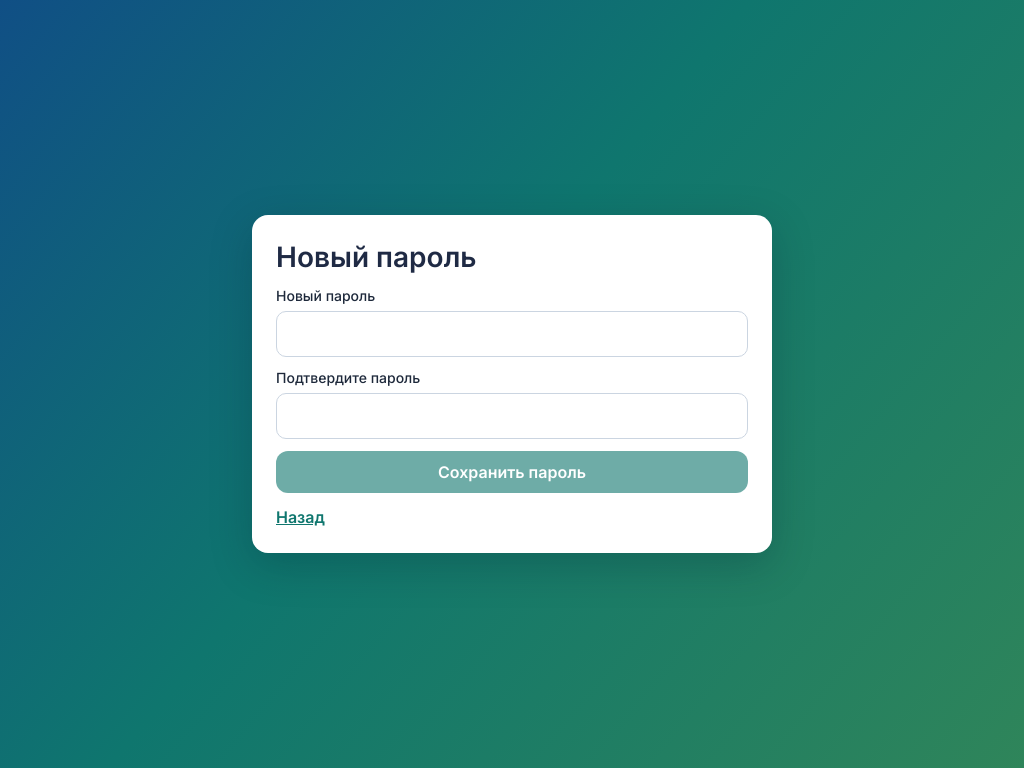
Test case: ResetPasswordPage › supports reset confirm flow by token
Type "Newpass123" into the password field labelled "Новый пароль" at (512, 334), box [276,311,748,357]
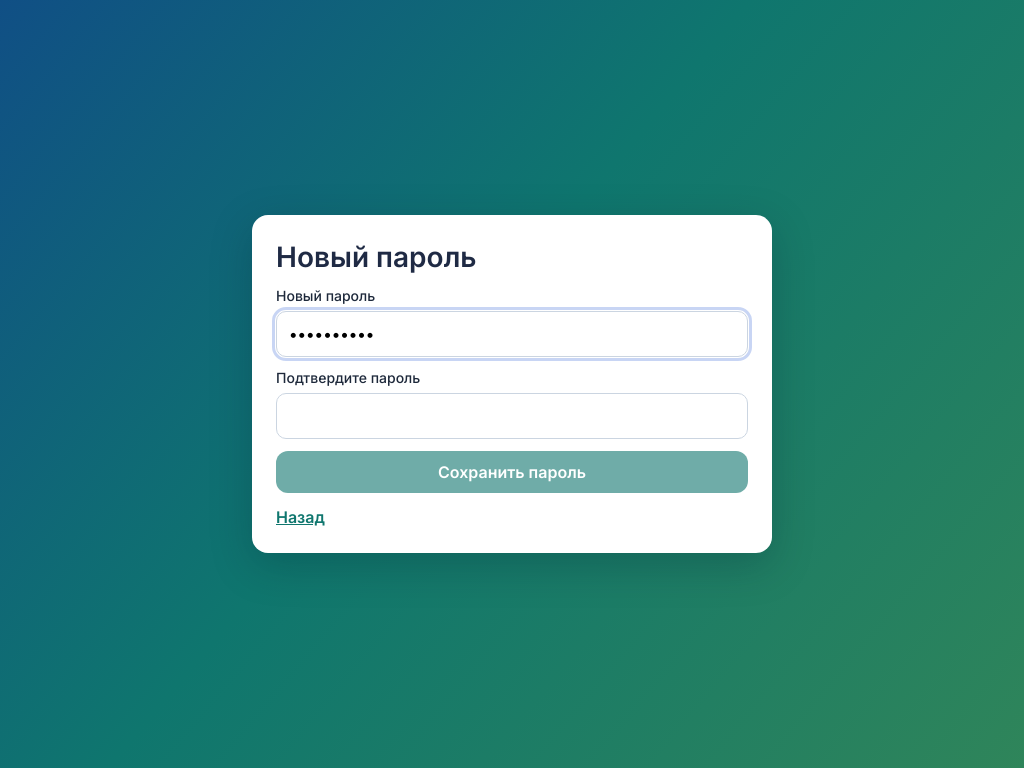
Type "Newpass123" into the password field labelled "Подтвердите пароль" at (512, 416), box [276,393,748,439]
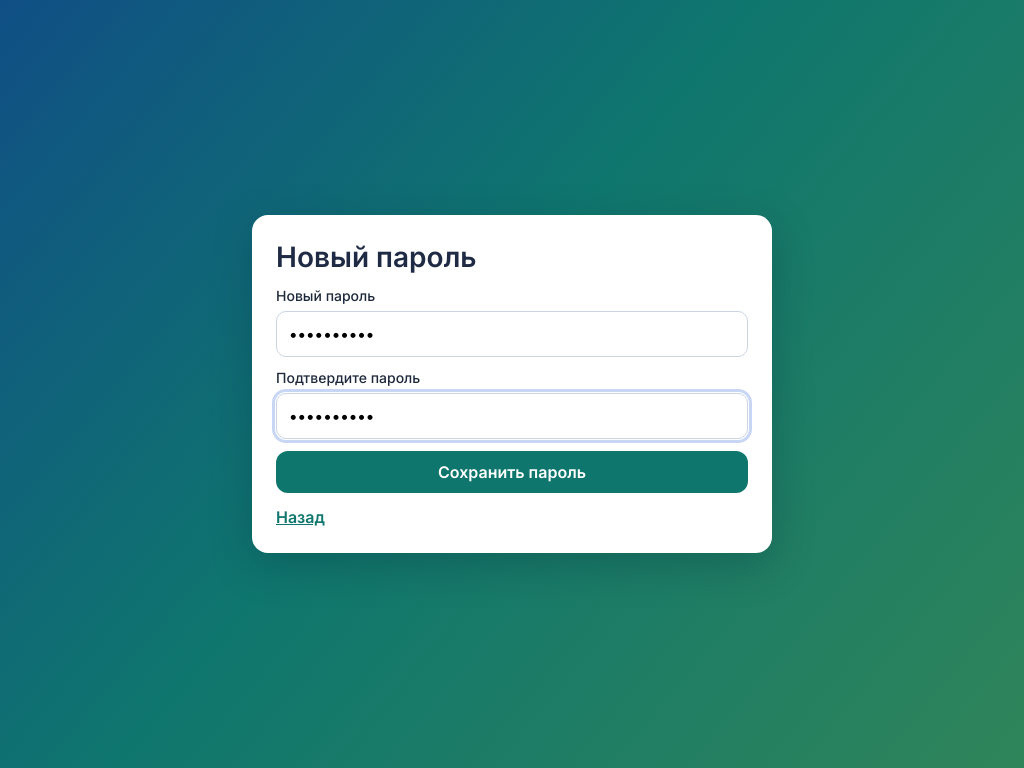
Click the button "Сохранить пароль" at (512, 472), box [276,451,748,493]
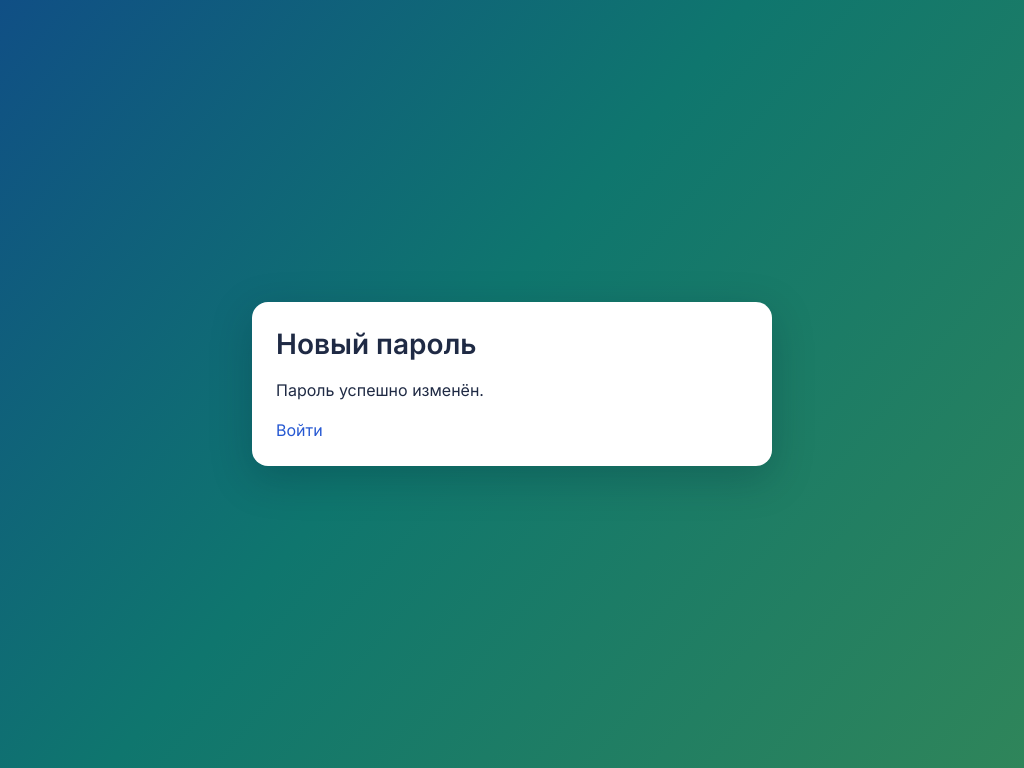
Now the text "Пароль успешно изменён." is shown, box [276,380,484,400]
